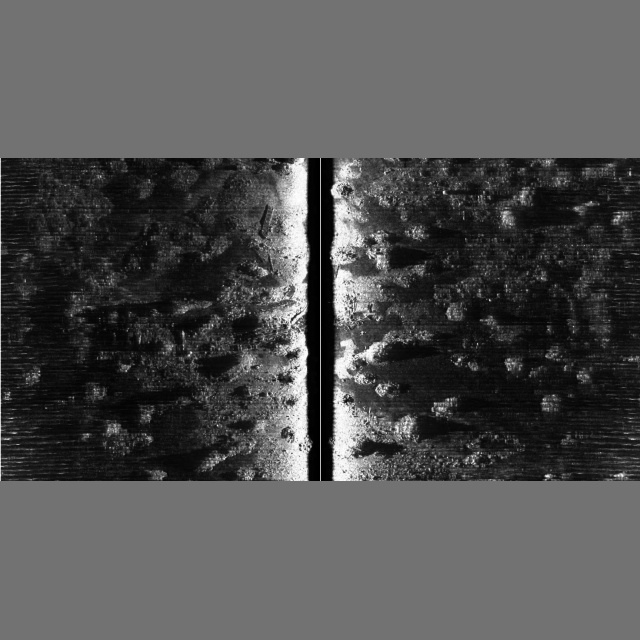Shipwreck: (254, 204, 371, 347)
